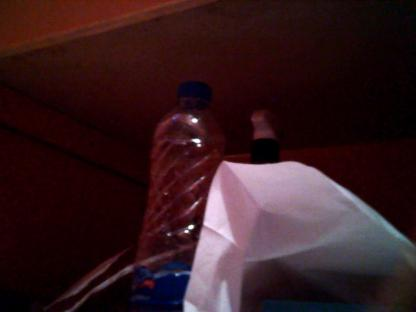Plastic Bottle: (124, 66, 234, 312)
